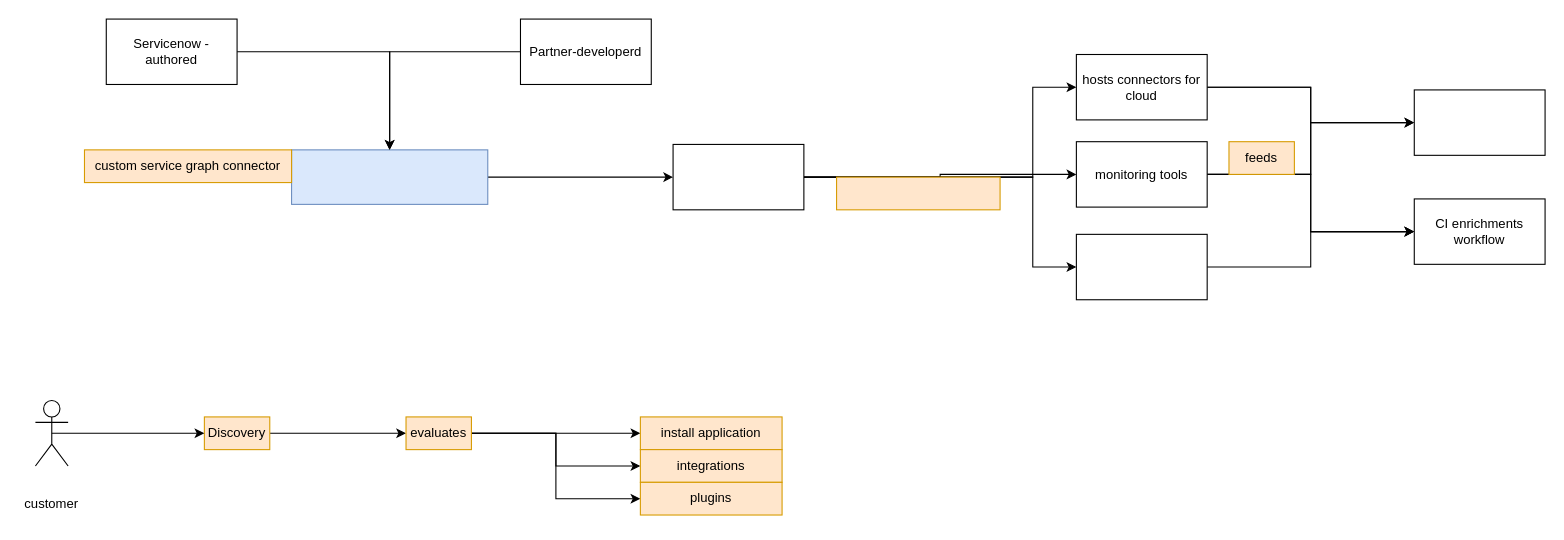
Some shapes in this 1564 by 540 pixel diagram are drawn without their labels. Here are the shapes that lost their labels. From the top down, the box of each, then its label:
(1413, 89, 1545, 155): discovery topology mapping
(290, 149, 488, 204): ServiceNow Store
(672, 143, 804, 210): cuts the custom developement work
(835, 176, 1000, 210): ITOM, CMDB, CSDM
(1075, 233, 1207, 300): data source integrations
(34, 399, 68, 466): Actor
